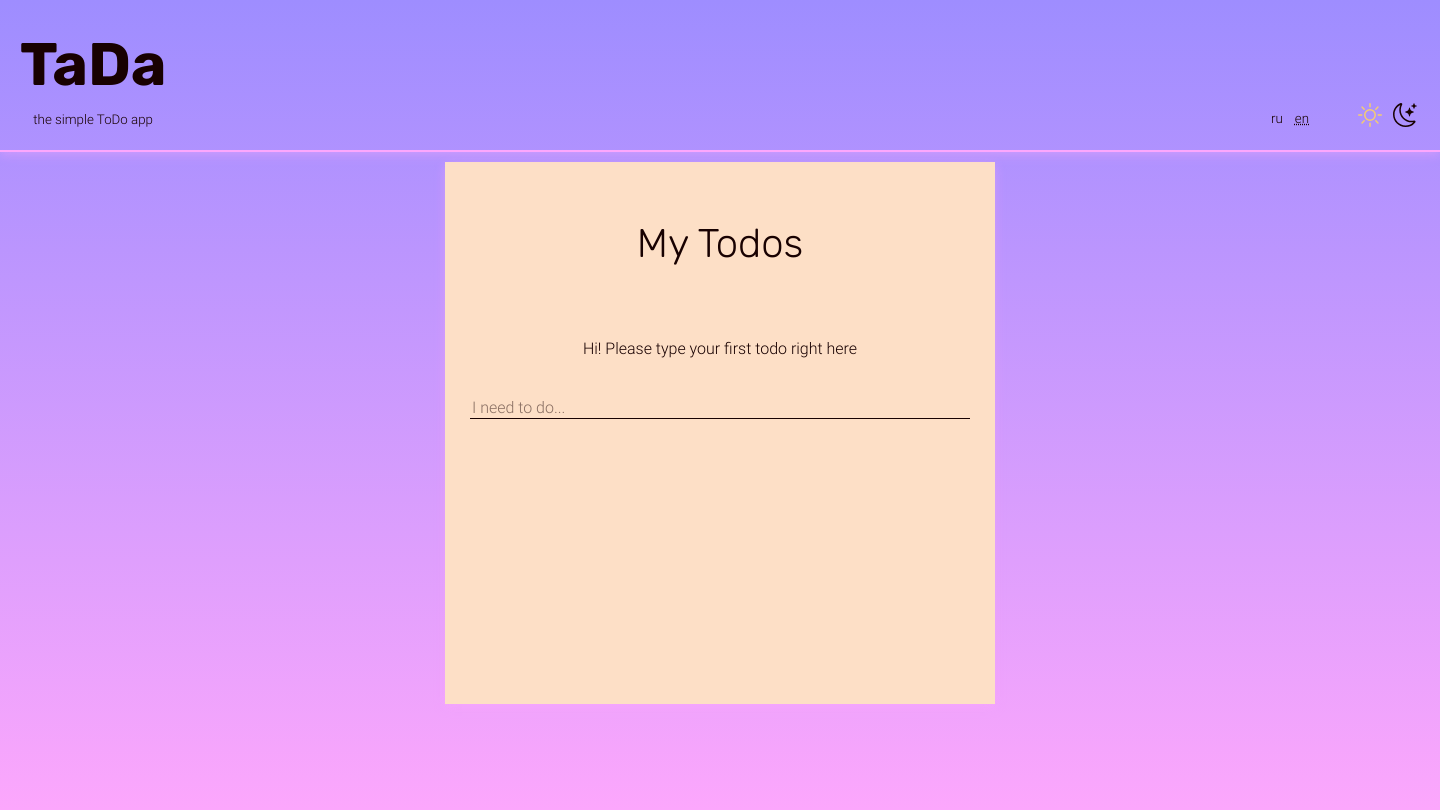
Test: Core functionality › delete all completed tasks
The image size is (1440, 810).
Type "something" into the field with test id "addTodo" at coordinates (720, 408), box [470,397,970,419]
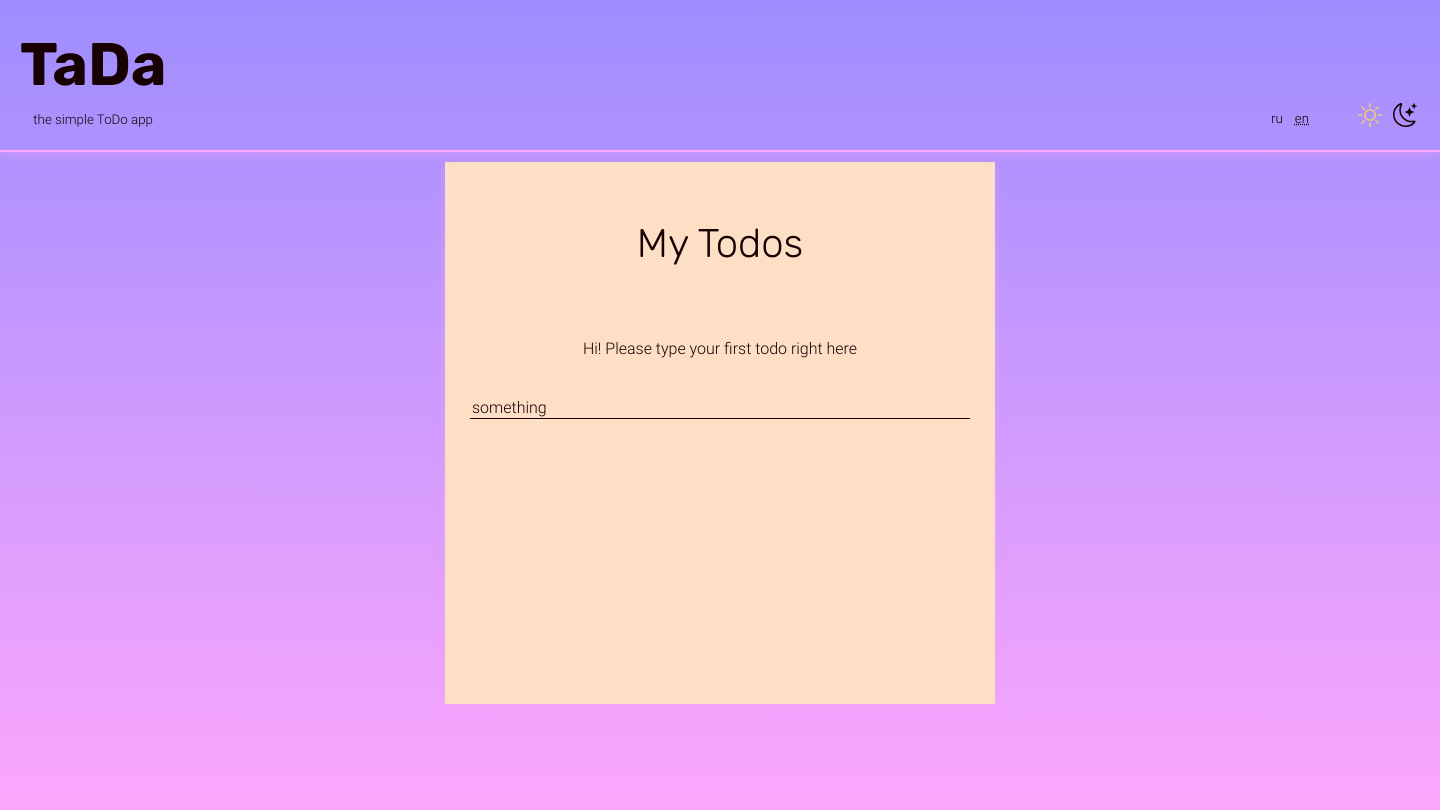
Submit the form from the field with test id "addTodo", box [470,397,970,419]
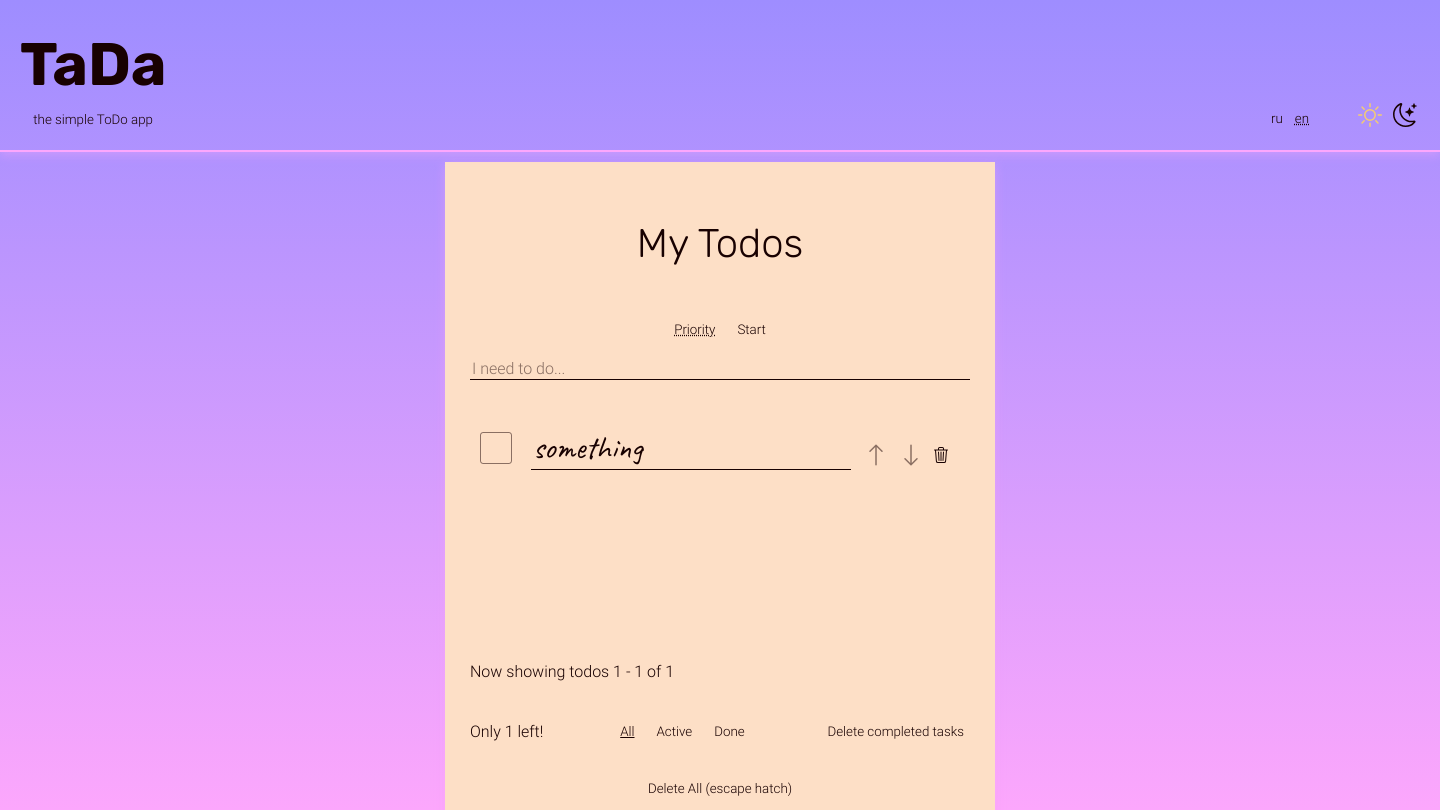
Type "something else" into the field with test id "addTodo" at coordinates (720, 369), box [470,358,970,380]
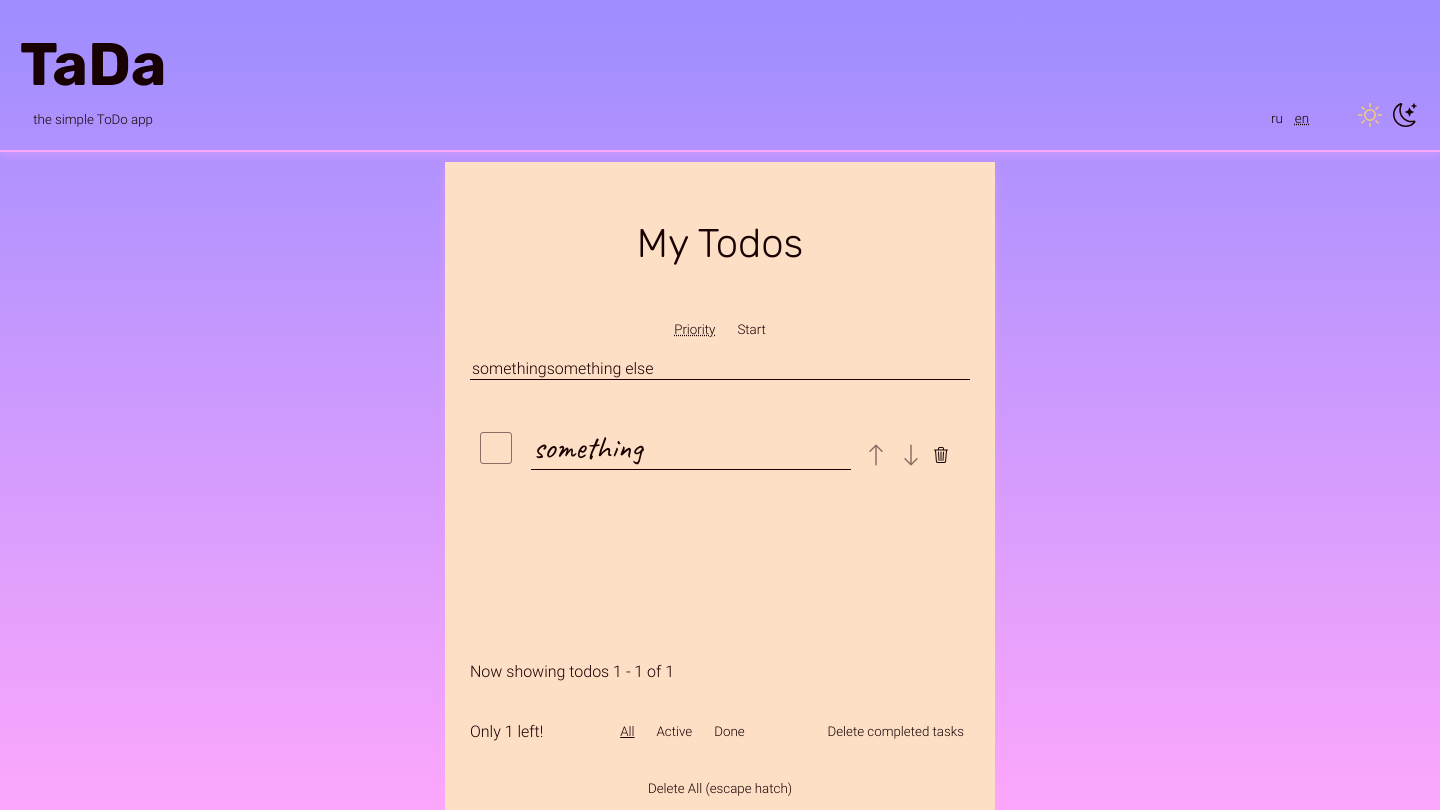
Submit the form from the field with test id "addTodo", box [470,358,970,380]
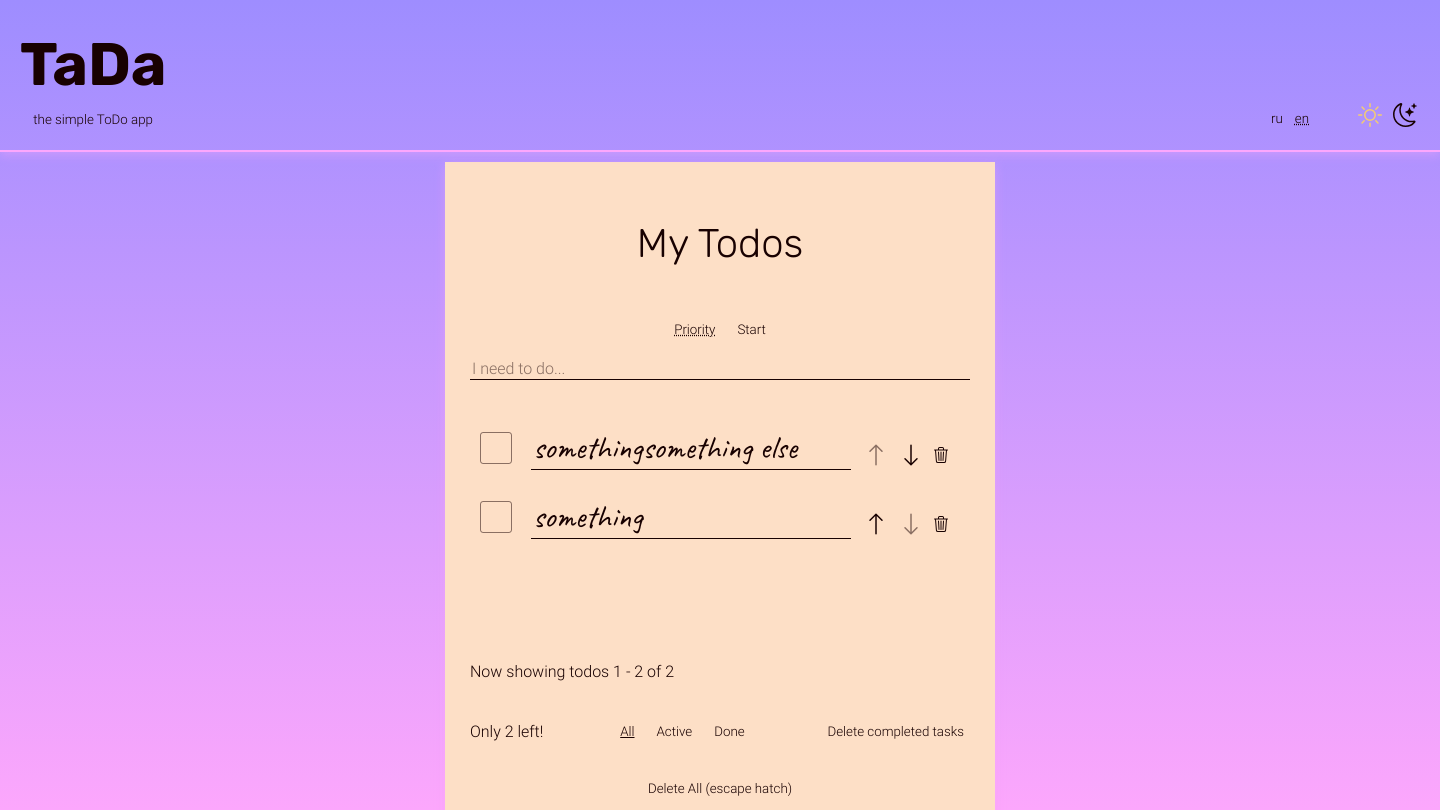
Click the checkbox with test id "checkDone" at coordinates (500, 448), box [480,426,521,470]
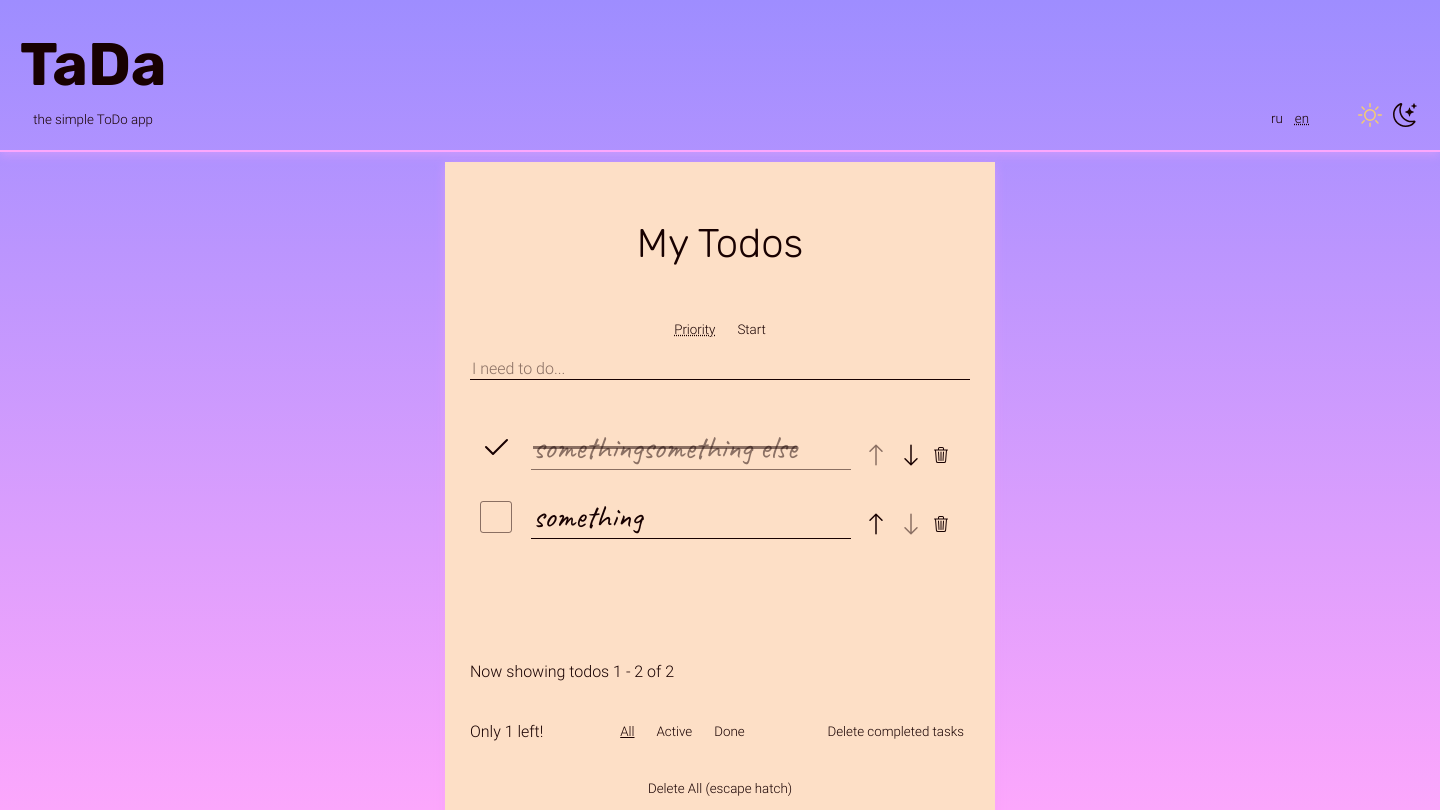
Click the button with test id "deleteAll" at coordinates (896, 732), box [821,704,970,760]
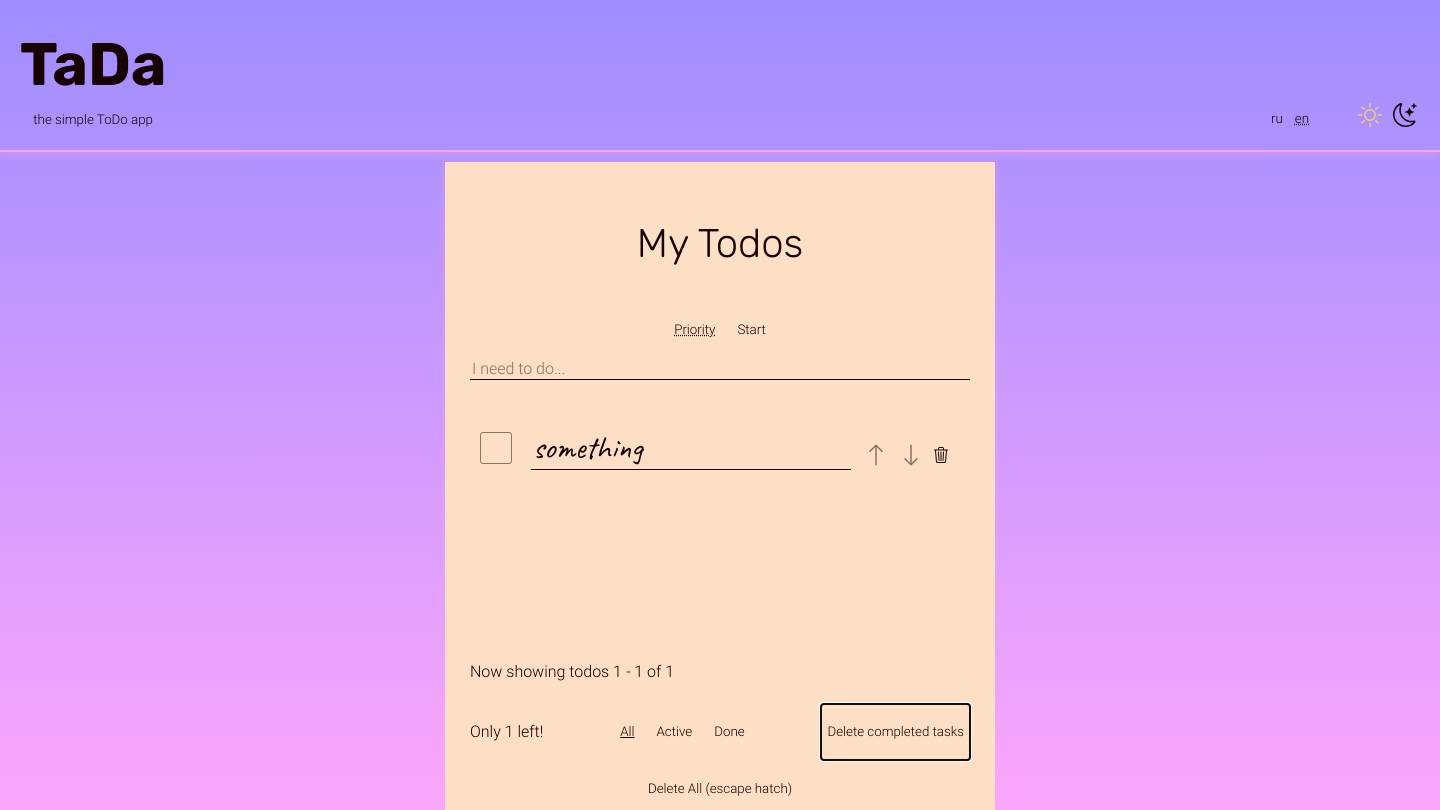
Expected: the number of list items with test id "listItem" is 1, [480,426,960,475]
